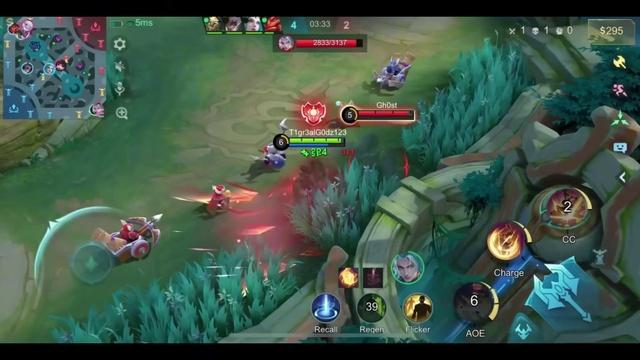bush: (178, 75, 528, 241), (122, 122, 354, 360), (246, 15, 640, 63)
hp_enemy: (358, 109, 414, 117)
hp_self: (289, 136, 345, 143)
minion_ally: (112, 83, 318, 286), (84, 104, 234, 324)
minion_enemy: (136, 72, 398, 219), (206, 24, 610, 84)
